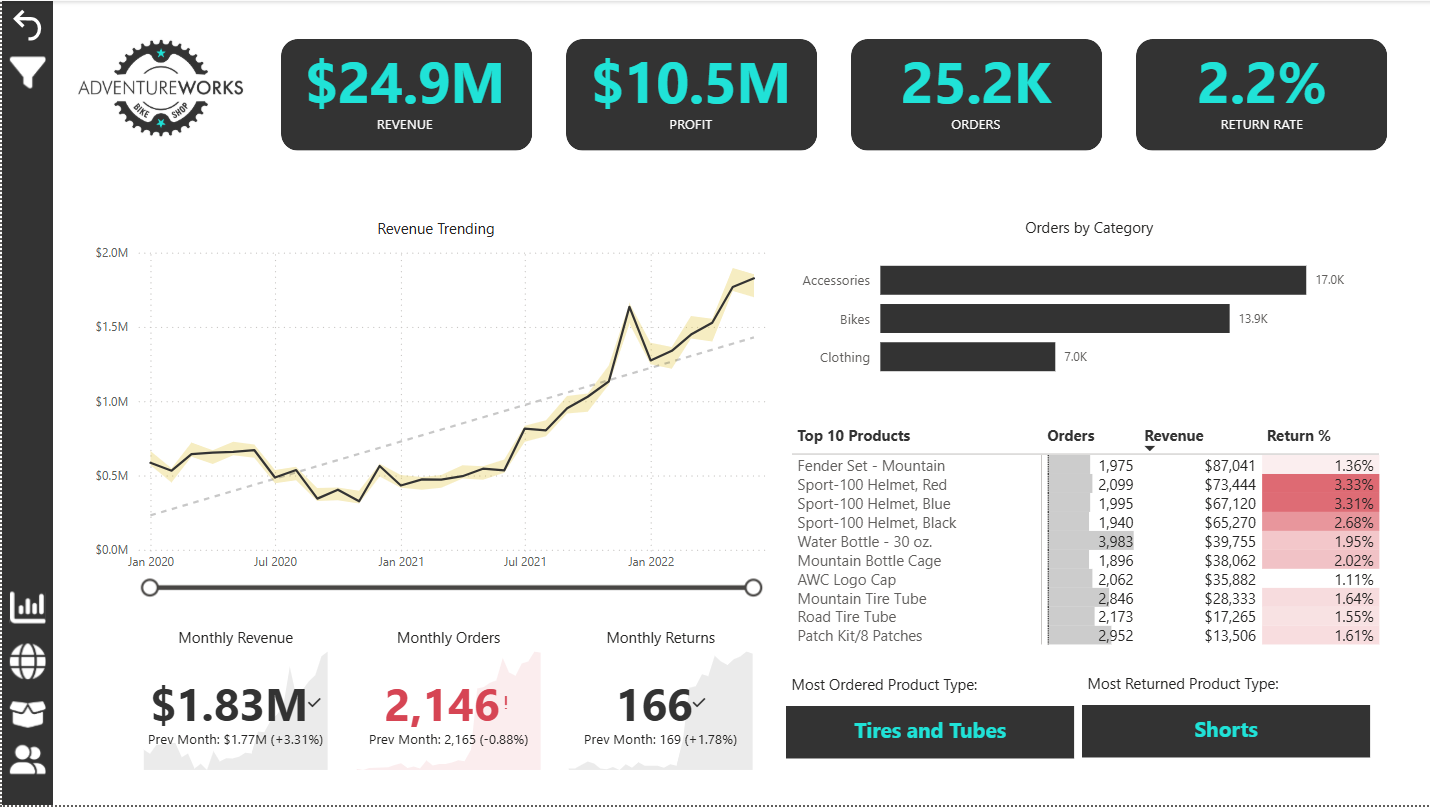

This screenshot's page, from the dashboard's own definition file:
{"tool":"powerbi","page":{"name":"Exec Dashboard","canvas":[1280,720],"ordinal":0},"visuals":[{"type":"card","fields":{"Values":["Measure Table.Total Revenue"]},"box":[232.8,2.7,256,150],"z":0,"group":"g3"},{"type":"group","id":"g1","title":"KPIs","box":[232.8,2.7,1023.5,150],"z":0},{"type":"shape","box":[249.8,34,225,100],"z":0,"group":"g2"},{"type":"group","id":"g2","title":"KPI Background","box":[249.8,34,990.7,100],"z":0,"group":"g1"},{"type":"actionButton","box":[0,523,45.7,40.3],"z":0,"group":"g4"},{"type":"group","id":"g3","title":"KPI Values","box":[232.8,2.7,1023.5,150],"z":1000,"group":"g1"},{"type":"card","fields":{"Values":["Measure Table.Total Profit"]},"box":[488.6,2.7,256,150],"z":1000,"group":"g3"},{"type":"image","title":"AW Logo","box":[51.9,21.5,180.9,112.8],"z":1000},{"type":"shape","box":[505,34,225,100],"z":1000,"group":"g2"},{"type":"actionButton","box":[0,571.1,45.7,40.3],"z":1000,"group":"g4"},{"type":"shape","title":"Left Nav Background","box":[0,0,45.7,720],"z":2000},{"type":"card","fields":{"Values":["Measure Table.Total Orders"]},"box":[744.4,2.7,256,150],"z":2000,"group":"g3"},{"type":"shape","box":[760.2,34,225,100],"z":2000,"group":"g2"},{"type":"actionButton","box":[0,619.1,45.7,40.3],"z":2000,"group":"g4"},{"type":"card","fields":{"Values":["Measure Table.Return Rate"]},"box":[1000.3,2.7,256,150],"z":3000,"group":"g3"},{"type":"shape","box":[1015.5,34,225,100],"z":3000,"group":"g2"},{"type":"kpi","title":"Monthly Revenue","fields":{"Goal":["Measure Table.Previous Month Revenue"],"Indicator":["Measure Table.Total Revenue"],"TrendLine":["Calendar Lookup.Start of Month"]},"box":[121.6,560.9,175,133],"z":3000},{"type":"actionButton","box":[0,659.1,45.7,40.3],"z":3000,"group":"g4"},{"type":"lineChart","title":"Revenue Trending","fields":{"Category":["Calendar Lookup.Start of Month"],"Y":["Measure Table.Total Revenue"]},"box":[77.6,193.9,621.5,342.1],"z":4000},{"type":"kpi","title":"Monthly Orders","fields":{"Goal":["Measure Table.Previous Month Orders"],"Indicator":["Measure Table.Total Orders"],"TrendLine":["Calendar Lookup.Start of Month"]},"box":[312.1,560.9,175,133],"z":5000},{"type":"kpi","title":"Monthly Returns","fields":{"Goal":["Measure Table.Previous Month Returns"],"Indicator":["Measure Table.Total Returns"],"TrendLine":["Calendar Lookup.Start of Month"]},"box":[502.6,560.9,175,133],"z":6000},{"type":"pivotTable","fields":{"Rows":["Product Lookup.ProductName"],"Values":["Measure Table.Total Orders","Measure Table.Total Revenue","Measure Table.Return Rate"]},"box":[702.5,374.9,541.9,206.9],"z":7000},{"type":"card","fields":{"Values":["Min(Product Subcategories Lookup.SubcategoryName)"]},"box":[702.5,631.1,257.9,47.5],"z":8000},{"type":"textbox","box":[702.5,597.9,217.6,33.1],"z":9000},{"type":"card","fields":{"Values":["Min(Product Subcategories Lookup.SubcategoryName)"]},"box":[966.9,630.3,257.9,47.5],"z":10000},{"type":"clusteredBarChart","title":"Orders by Category","fields":{"Category":["Product Categories Lookup.CategoryName"],"Y":["Measure Table.Total Orders"]},"box":[706.5,193.5,534.2,158.2],"z":11000},{"type":"textbox","box":[966.9,597.2,217.6,33.1],"z":12000},{"type":"actionButton","box":[0,2.7,45.7,37.6],"z":13000},{"type":"group","id":"g4","title":"Navigation Buttons","box":[0,523,45.7,176.4],"z":14000},{"type":"actionButton","box":[0,43.9,45.7,40.3],"z":15000}]}

Visuals, with their boxes on the page's 1280x720 design canvas (x1, y1, x2, y2). These are canvas units, not pixel positions in the 1430x808 screenshot, which may show the page scaled, cropped or inside an application window:
card - Measure Table.Total Revenue: [left=233, top=3, right=489, bottom=153]
"KPIs" group: [left=233, top=3, right=1256, bottom=153]
shape: [left=250, top=34, right=475, bottom=134]
"KPI Background" group: [left=250, top=34, right=1240, bottom=134]
actionButton: [left=0, top=523, right=46, bottom=563]
"KPI Values" group: [left=233, top=3, right=1256, bottom=153]
card - Measure Table.Total Profit: [left=489, top=3, right=745, bottom=153]
"AW Logo" image: [left=52, top=22, right=233, bottom=134]
shape: [left=505, top=34, right=730, bottom=134]
actionButton: [left=0, top=571, right=46, bottom=611]
"Left Nav Background" shape: [left=0, top=0, right=46, bottom=720]
card - Measure Table.Total Orders: [left=744, top=3, right=1000, bottom=153]
shape: [left=760, top=34, right=985, bottom=134]
actionButton: [left=0, top=619, right=46, bottom=659]
card - Measure Table.Return Rate: [left=1000, top=3, right=1256, bottom=153]
shape: [left=1016, top=34, right=1240, bottom=134]
"Monthly Revenue" kpi: [left=122, top=561, right=297, bottom=694]
actionButton: [left=0, top=659, right=46, bottom=699]
"Revenue Trending" lineChart: [left=78, top=194, right=699, bottom=536]
"Monthly Orders" kpi: [left=312, top=561, right=487, bottom=694]
"Monthly Returns" kpi: [left=503, top=561, right=678, bottom=694]
pivotTable - Product Lookup.ProductName x Measure Table.Total Orders: [left=702, top=375, right=1244, bottom=582]
card - Min(Product Subcategories Lookup.SubcategoryName): [left=702, top=631, right=960, bottom=679]
textbox: [left=702, top=598, right=920, bottom=631]
card - Min(Product Subcategories Lookup.SubcategoryName): [left=967, top=630, right=1225, bottom=678]
"Orders by Category" clusteredBarChart: [left=706, top=194, right=1241, bottom=352]
textbox: [left=967, top=597, right=1184, bottom=630]
actionButton: [left=0, top=3, right=46, bottom=40]
"Navigation Buttons" group: [left=0, top=523, right=46, bottom=699]
actionButton: [left=0, top=44, right=46, bottom=84]
